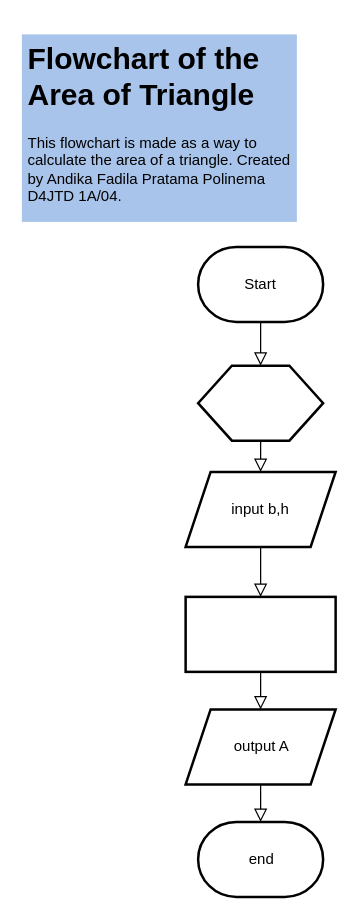
The diagram is 358 pixels wide and 919 high, and some of its shapes have lost their labels. Each missing label, with the centre of its shape:
A = 0.5*b*h: point 260,633
b = base h = height: point 260,402
